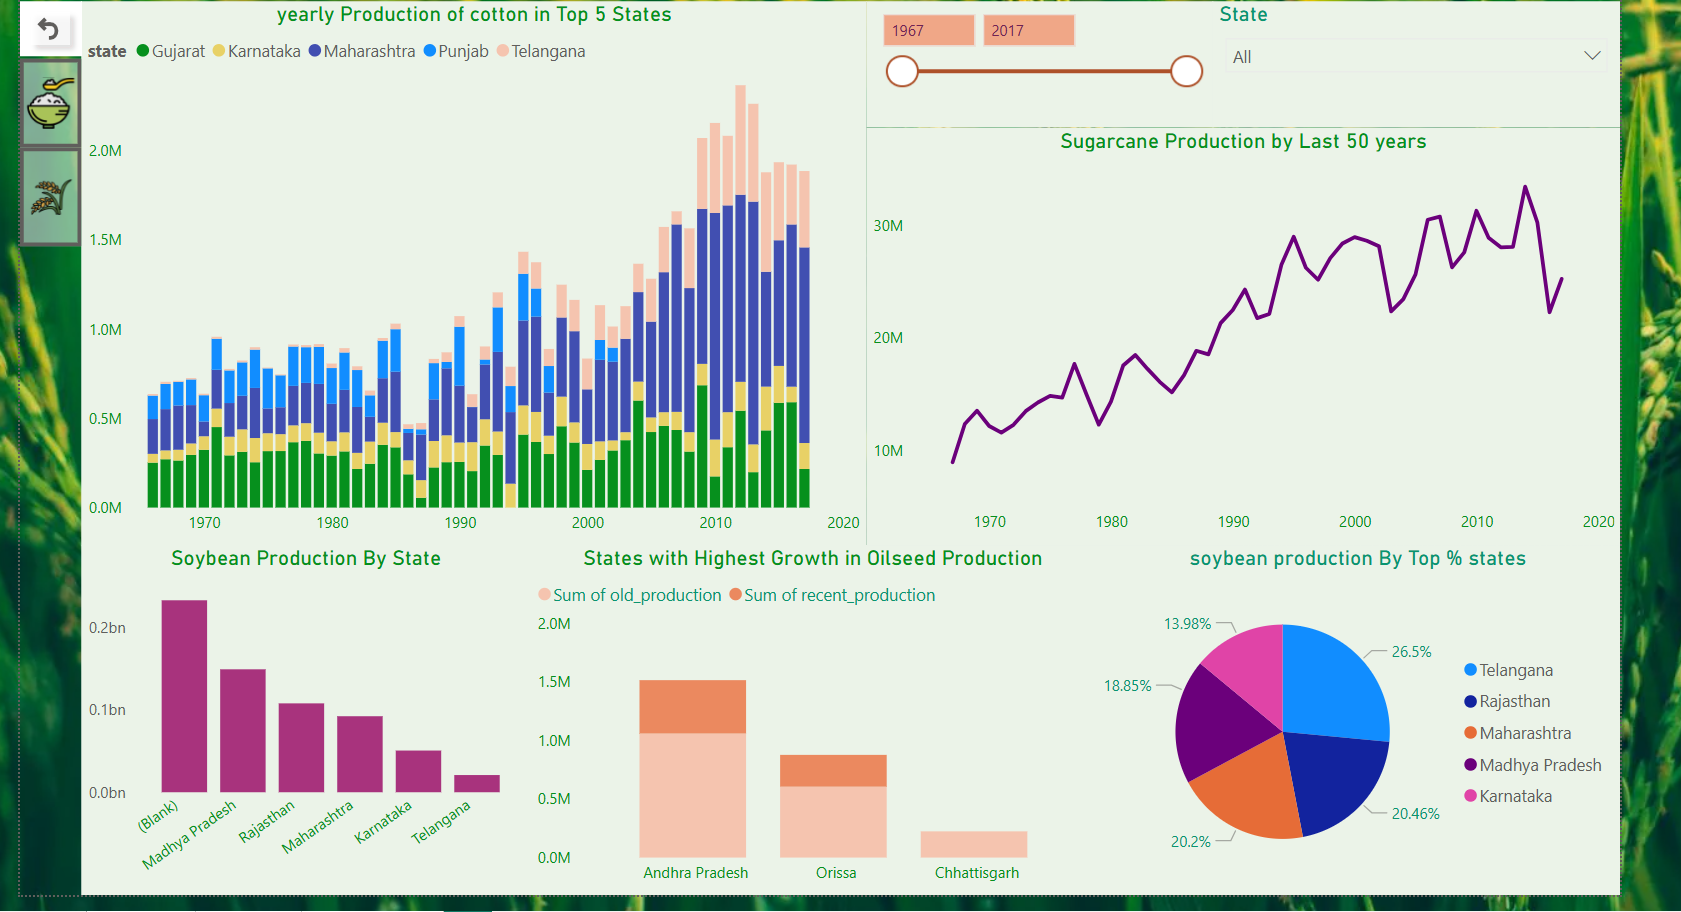

The page's visual inventory and layout, read from the dashboard file:
{"tool":"powerbi","page":{"name":"FARM CROPS","canvas":[1280,720],"ordinal":2},"visuals":[{"type":"pieChart","title":"soybean production By Top % states","fields":{"Y":["Sum(Soybean Production by Top 5 States and Yield Efficiency.yield_efficiency)"],"Category":["Soybean Production by Top 5 States and Yield Efficiency.state"]},"box":[870.2,446.9,397.7,272.6],"z":1000},{"type":"columnChart","title":"States with Highest Growth in Oilseed Production","fields":{"Y":["Sum(SQ3 - States with the Highest Growth in Oilseed Production (5-Year Growth Rate).old_production)","Sum(SQ3 - States with the Highest Growth in Oilseed Production (5-Year Growth Rate).recent_production)"],"Category":["SQ3 - States with the Highest Growth in Oilseed Production (5-Year Growth Rate).state"]},"box":[419.6,446.6,440.9,273.1],"z":2000},{"type":"columnChart","title":"Soybean Production By State","fields":{"Category":["Soybean Production by Top 5 States and Yield Efficiency.state"],"Y":["Sum(Oilseed Production in Major States.oilseed_production)"]},"box":[65.4,446.6,342.8,273.1],"z":3000},{"type":"columnChart","title":"yearly Production of cotton in Top 5 States","fields":{"Category":["SQ5 - Yearly Production Growth of Cotton in Top 5 Cotton Producing States.year"],"Y":["Sum(SQ5 - Yearly Production Growth of Cotton in Top 5 Cotton Producing States.cotton_producing_states)"],"Series":["SQ5 - Yearly Production Growth of Cotton in Top 5 Cotton Producing States.state"]},"box":[64.7,4.8,612.4,435.1],"z":4000},{"type":"lineChart","title":"Sugarcane Production by  Last 50 years","fields":{"Category":["Sugarcane production from last 50 years.year"],"Y":["Sum(Sugarcane production from last 50 years.sugarcane_production)"]},"box":[689.1,106.7,590.9,333.2],"z":5000},{"type":"actionButton","box":[0,0,49,49],"z":5001},{"type":"slicer","fields":{"Values":["Millet production (last 50 years).year"]},"box":[689.1,4.8,590.9,92.3],"z":5002},{"type":"actionButton","box":[0,640.6,62.5,78.9],"z":5003},{"type":"actionButton","box":[0,508.4,62.5,70.7],"z":5004}]}

Visuals, with their boxes on the page's 1280x720 design canvas (x1, y1, x2, y2). These are canvas units, not pixel positions in the 1681x912 screenshot, which may show the page scaled, cropped or inside an application window:
"soybean production By Top % states" pieChart: 870:447:1268:720
"States with Highest Growth in Oilseed Production" columnChart: 420:447:860:720
"Soybean Production By State" columnChart: 65:447:408:720
"yearly Production of cotton in Top 5 States" columnChart: 65:5:677:440
"Sugarcane Production by  Last 50 years" lineChart: 689:107:1280:440
actionButton: 0:0:49:49
slicer - Millet production (last 50 years).year: 689:5:1280:97
actionButton: 0:641:62:720
actionButton: 0:508:62:579
